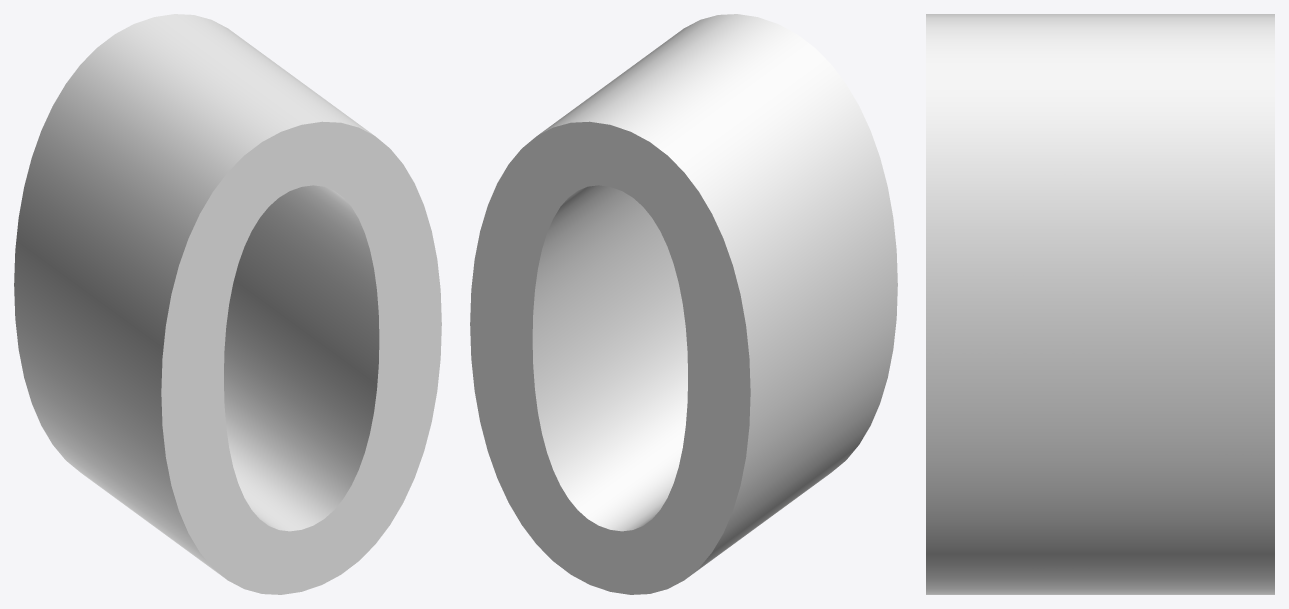
3 views of the same model, side by side, from view 1: azimuth 30°, elevation 25°; view 2: azimuth 150°, elevation 25°; view 3: azimuth 270°, elevation 25° (orthographic). The views are drawn at different scales.
Parts seen in each view (by area): view 1: テキスト; view 2: テキスト; view 3: テキスト.
Boxes of the visible parts, <box> form: テキスト: <box>14,14,441,594</box>; テキスト: <box>470,14,897,594</box>; テキスト: <box>926,14,1274,594</box>.
Bounding box in the file's own units: 0.1119 × 0.1781 × 0.1017.
1 material, 1 textured.
